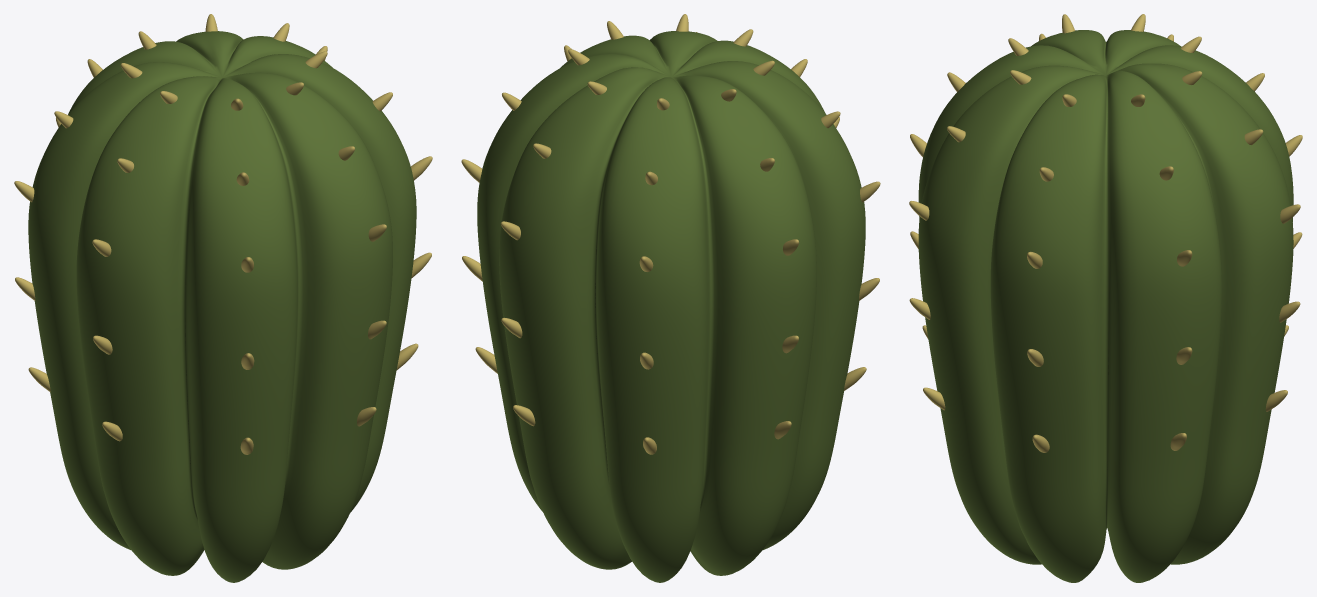
File: cactus.glb
3 views of the same model, side by side, from view 1: azimuth 30°, elevation 25°; view 2: azimuth 150°, elevation 25°; view 3: azimuth 270°, elevation 25° (orthographic).
Parts seen in each view (by area): view 1: Base, Spikes; view 2: Base, Spikes; view 3: Base, Spikes.
Part boxes in pixels (<box>): Base: <box>28,31,416,582</box>; Spikes: <box>14,14,432,454</box>; Base: <box>477,31,865,582</box>; Spikes: <box>461,14,880,454</box>; Base: <box>918,30,1293,582</box>; Spikes: <box>909,14,1302,452</box>.
Bounding box in the file's own units: 0.4608 × 0.6382 × 0.4562.
